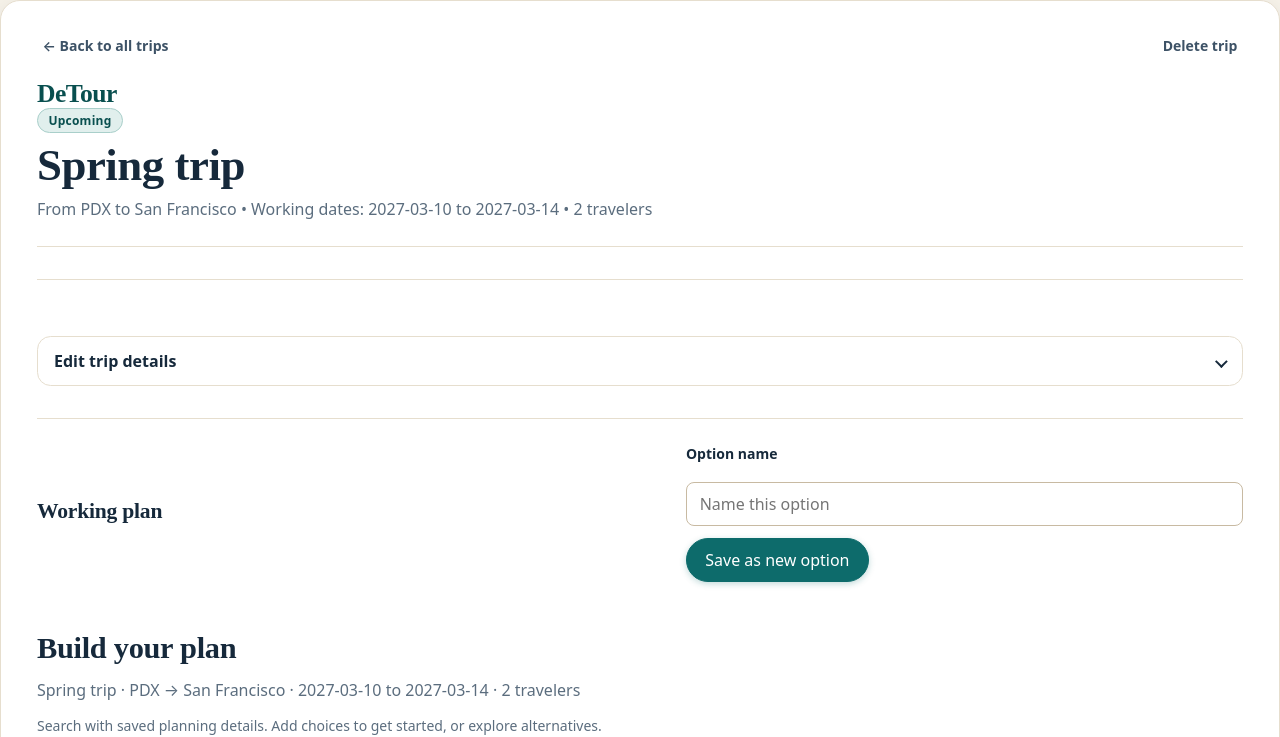
Test case: Saved option lifecycle › does not create an option until named save is requested
Type "First choice" into the field labelled "Option name" at {"x": 964, "y": 504}, box [686, 482, 1243, 526]
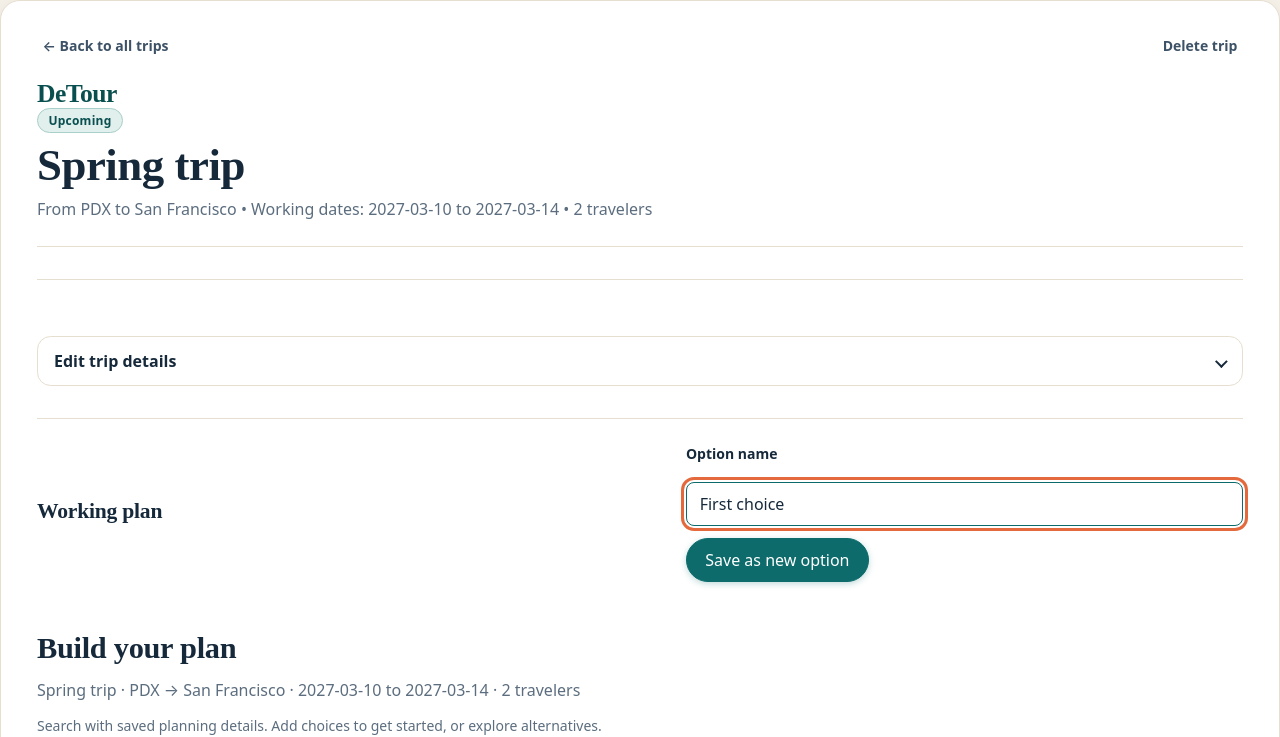
Click the button "Save as new option" at {"x": 777, "y": 560}, box [686, 538, 869, 582]
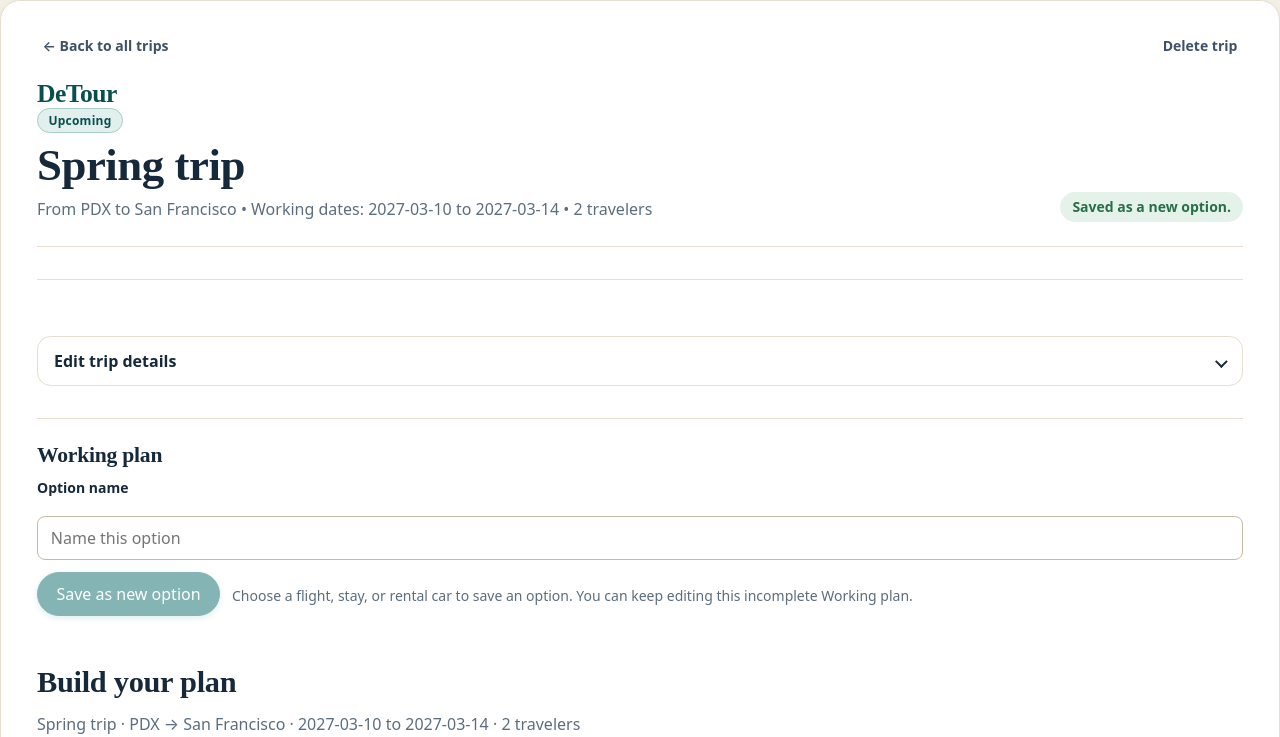
Check: the text "Saved as a new option." is shown, box [1072, 196, 1231, 217]
